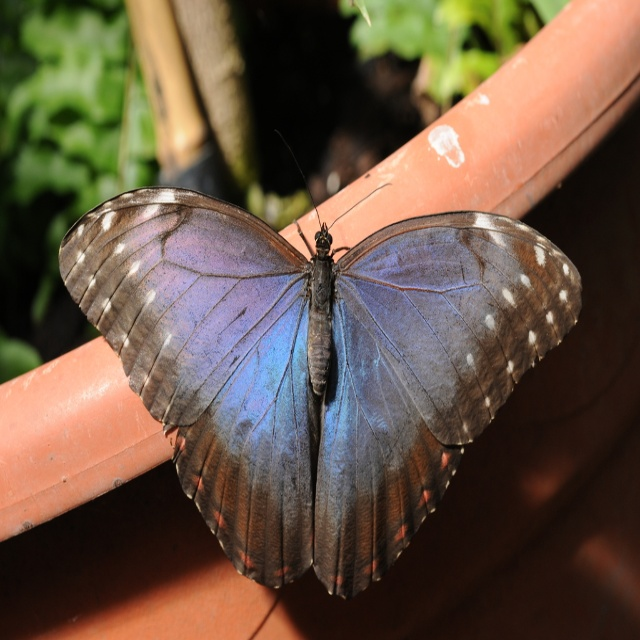Butterfly: (68, 142, 588, 608)
